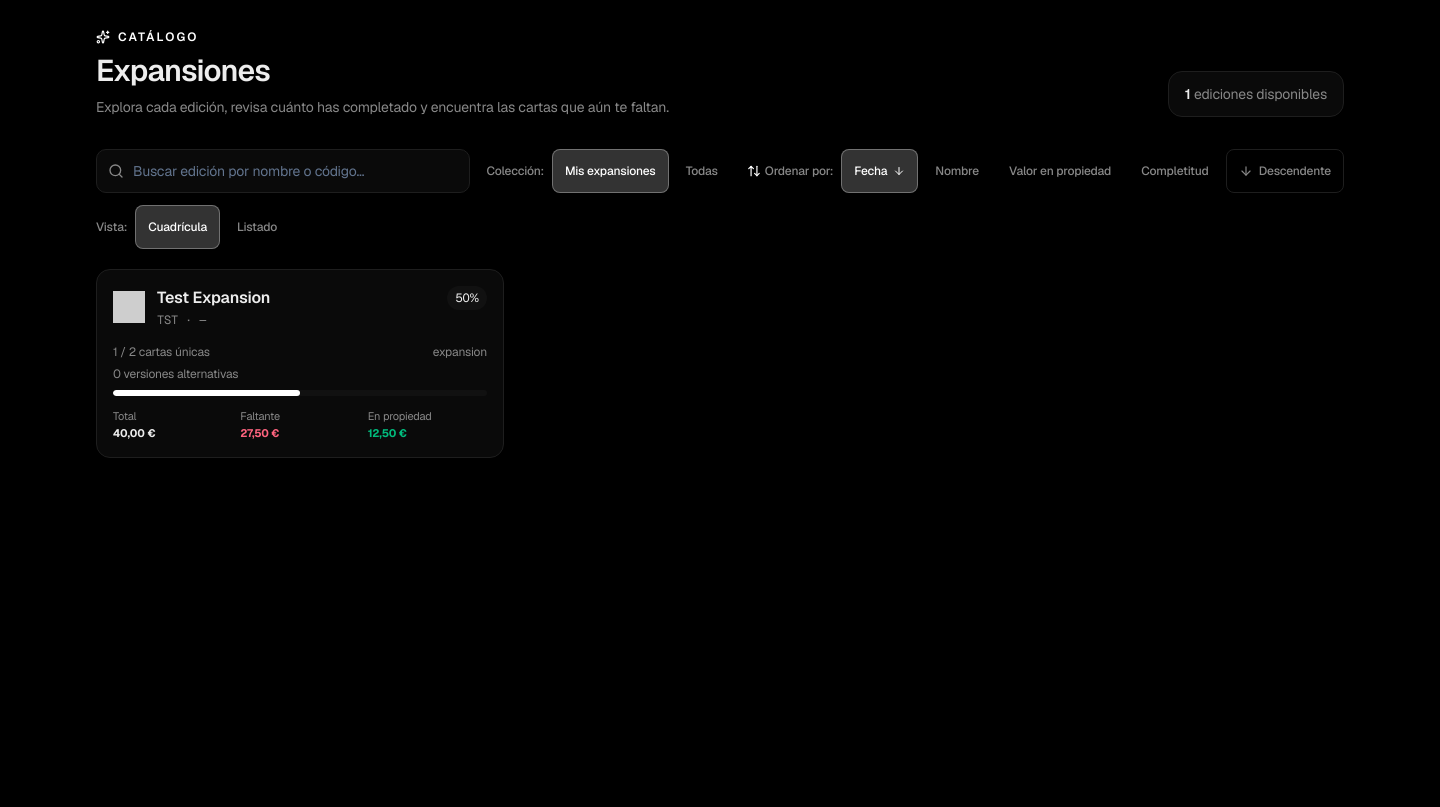
Scenario: ExpansionsView › exposes price trend metric and an independent direction control
The width and height of the screenshot is (1440, 807).
Click the button "Test Expansion".
click(129, 307)  # box [96,269,504,458]
(page scrolled)
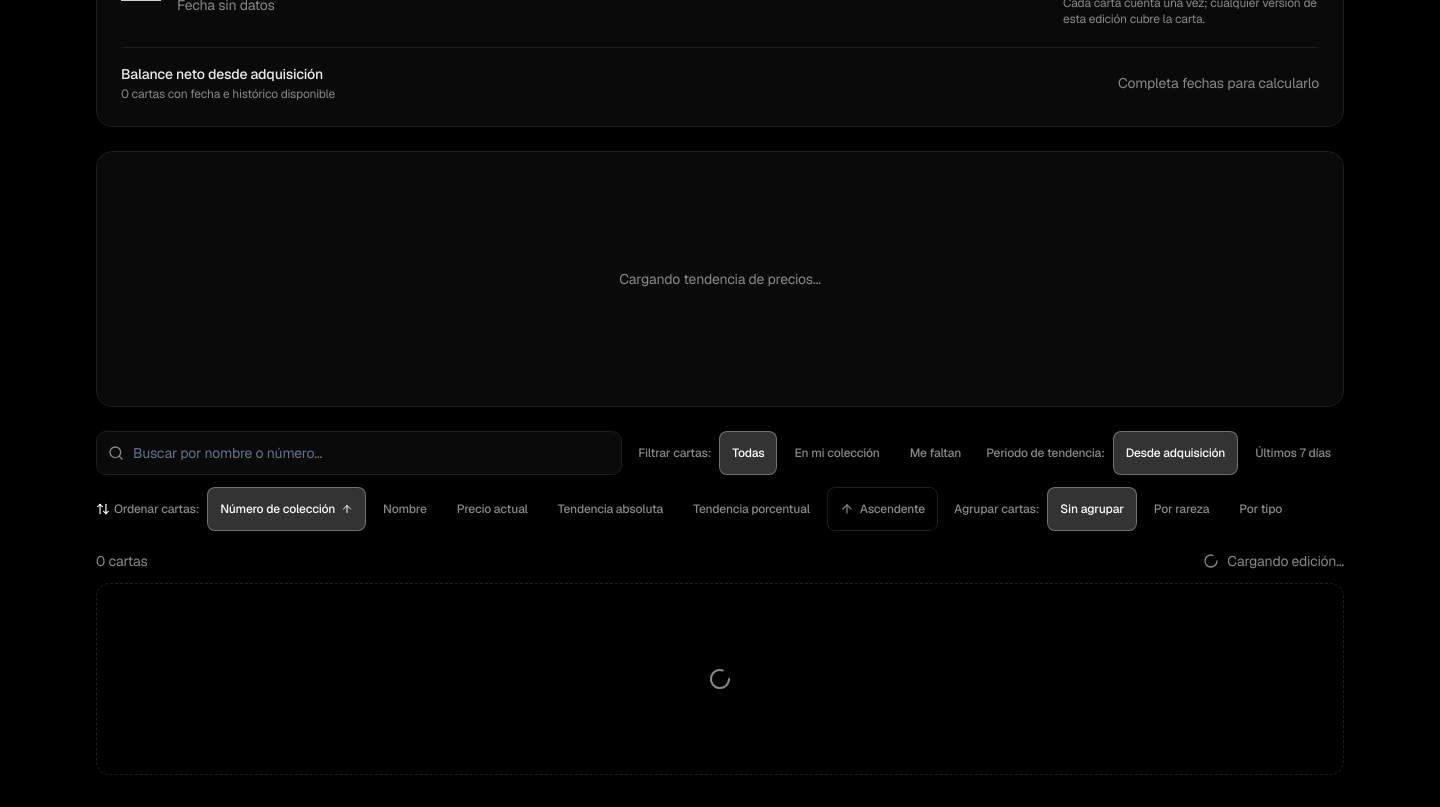
Check: the button "Tendencia absoluta" is shown, box [545,487,676,531]
Check: the button "Tendencia porcentual" is shown, box [680,487,823,531]
Click the button "Últimos 7 días".
click(1293, 453)  # box [1242,431,1344,475]
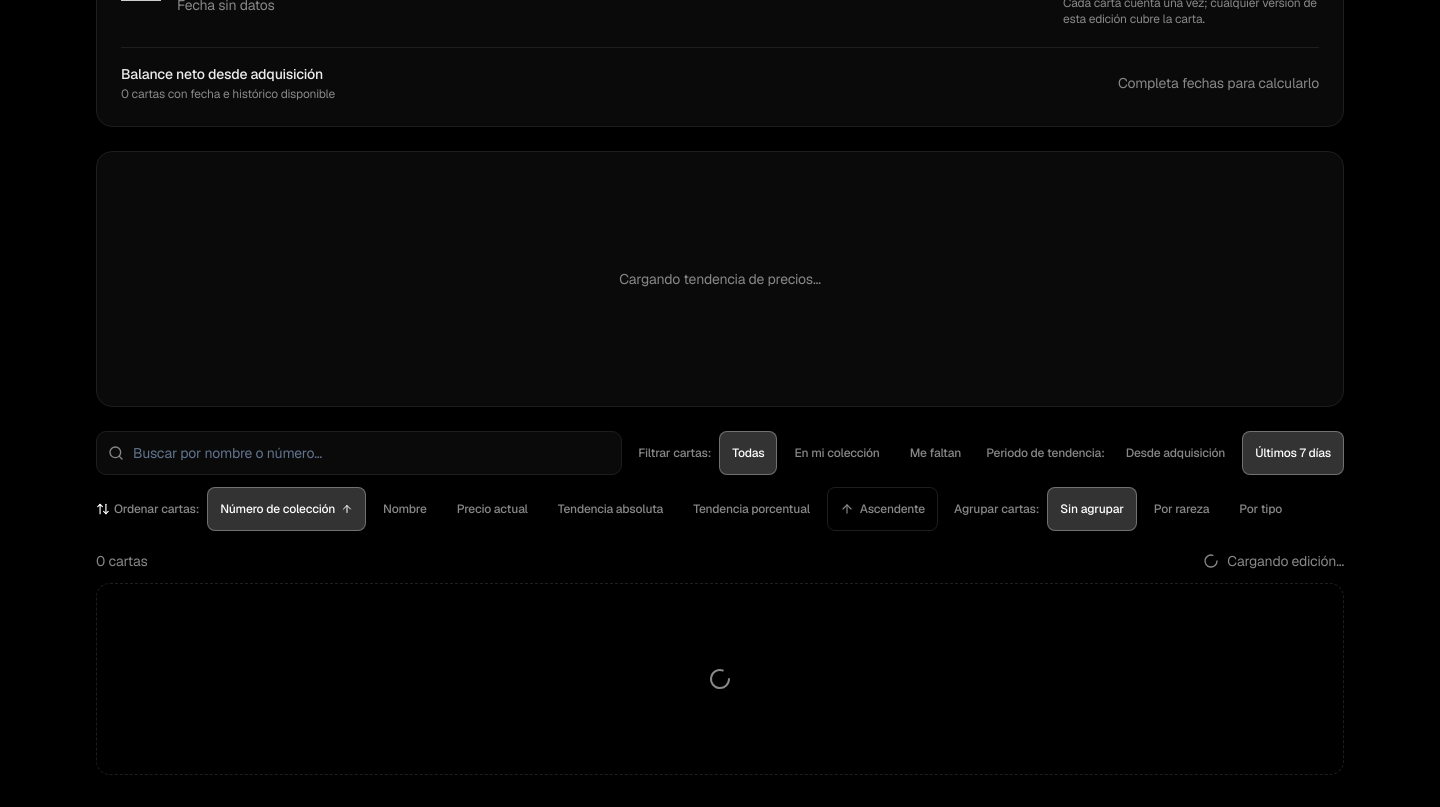
Check: the button "Últimos 7 días" is pressed, box [1242,431,1344,475]
Click the button "Tendencia porcentual".
click(752, 509)  # box [680,487,823,531]
(page scrolled)
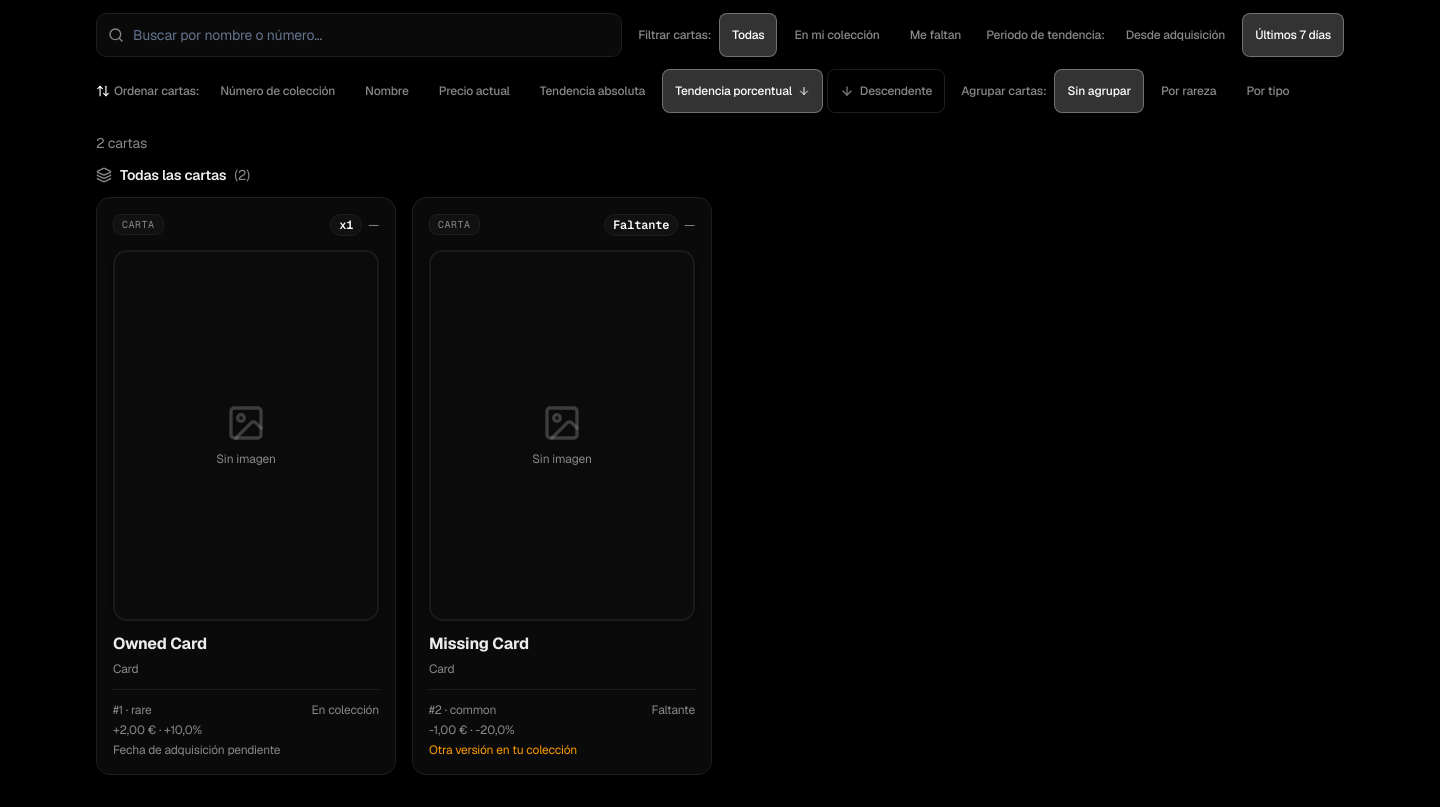
Check: the button with aria-label "Orden descendente:" is shown, box [827,68,945,112]
